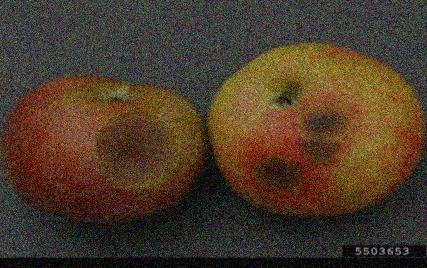rotten apple: (206, 40, 426, 232), (0, 70, 208, 225)
